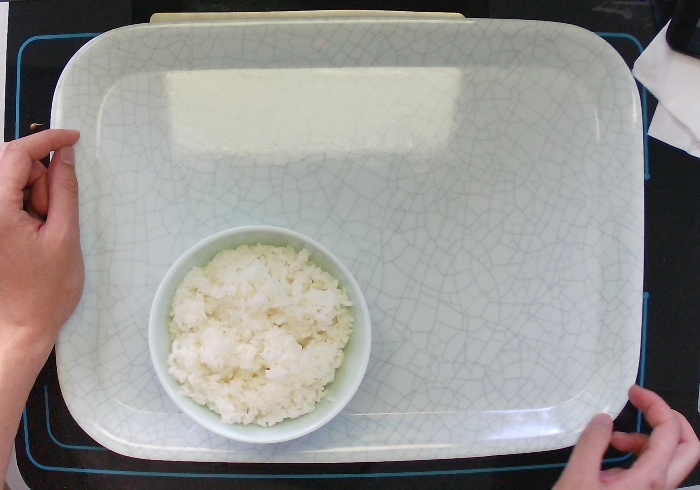JYsf-Fan_Wan: (143, 221, 375, 447)
